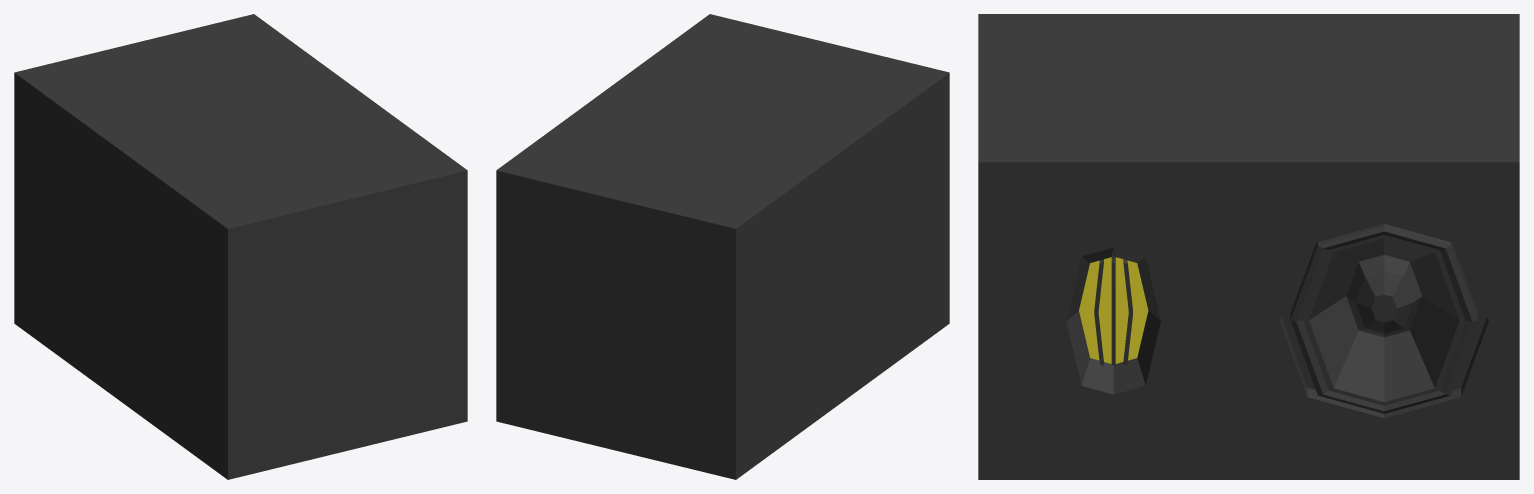
3 renders of one model, left to right at view 1: azimuth 30°, elevation 25°; view 2: azimuth 150°, elevation 25°; view 3: azimuth 270°, elevation 25°, orthographic. The views are drawn at different scales.
Parts seen in each view (by area): view 1: Speaker; view 2: Speaker; view 3: Speaker, Woofer, Tweeter.
Part boxes in pixels (<box>): Speaker: <box>14,14,467,479</box>; Speaker: <box>496,14,949,479</box>; Speaker: <box>978,14,1519,479</box>; Woofer: <box>1280,224,1488,418</box>; Tweeter: <box>1066,247,1160,394</box>.
Size of the model in its own units: 0.2887 by 0.288 by 0.4445.
Materials: 1 (1 with a texture image).
